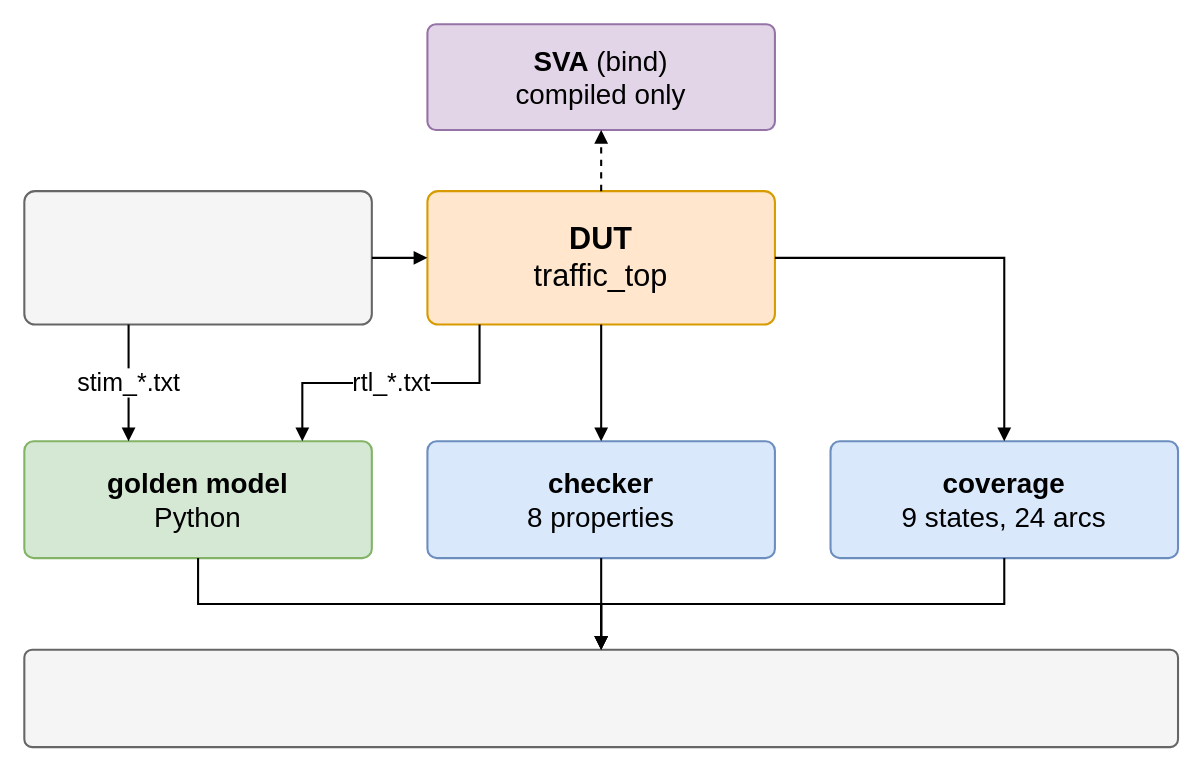
This 1204x773 diagram has some shape labels left out. Each missing label, with the centre of its shape:
logs : checks · properties · coverage golden match → PASS / FAIL: pixel 600 698
stimulus directed T1–T18 random, 3 seeds: pixel 197 257
